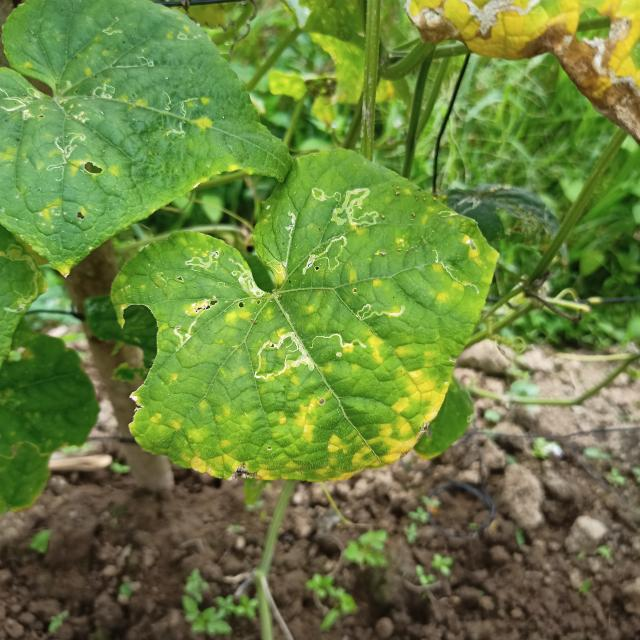disease_cucumber: (306, 332, 450, 476), (164, 398, 332, 478)
